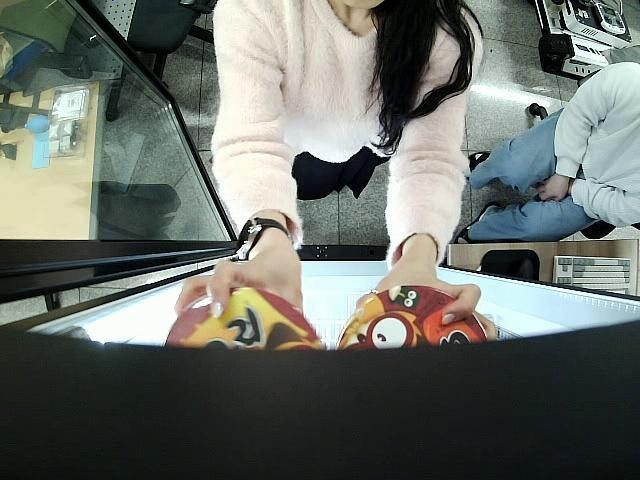05_nuguri_L: (164, 286, 328, 352), (336, 284, 489, 352)
